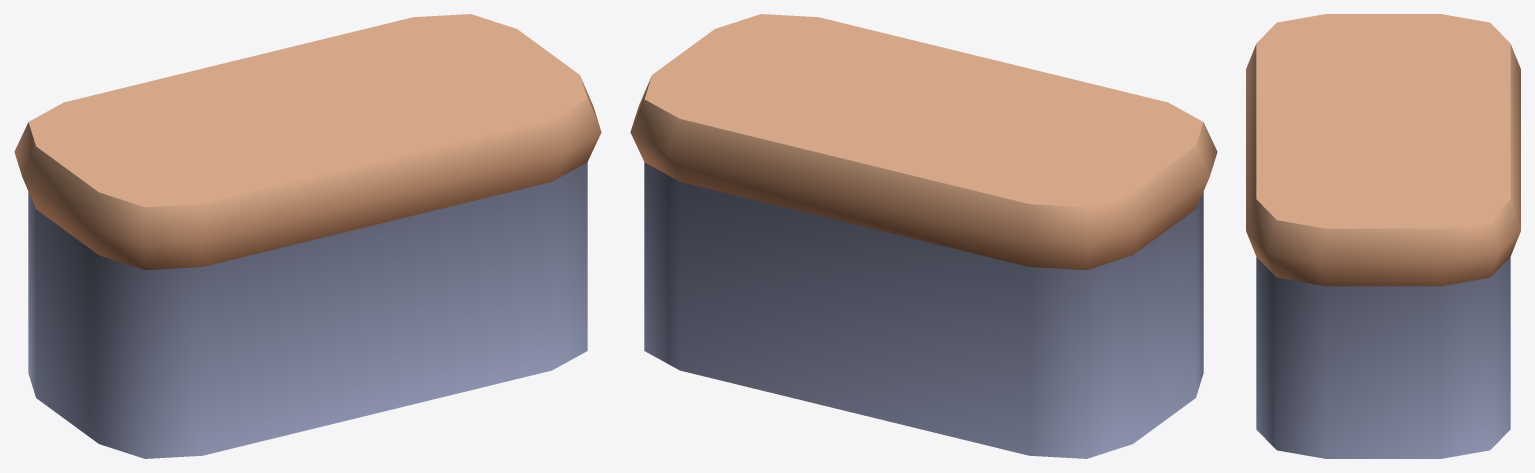
File: block-grass-long.glb
3 views of the same model, side by side, from view 1: azimuth 30°, elevation 25°; view 2: azimuth 150°, elevation 25°; view 3: azimuth 270°, elevation 25° (orthographic). The views are drawn at different scales.
Visible parts, largest first — view 1: block-grass-long; view 2: block-grass-long; view 3: block-grass-long.
Part boxes in pixels (x1,y1,x2,y2): block-grass-long: (14,14,601,458); block-grass-long: (630,14,1217,458); block-grass-long: (1246,14,1520,458).
Bounding box in the file's own units: 2.08 × 1 × 1.08.
